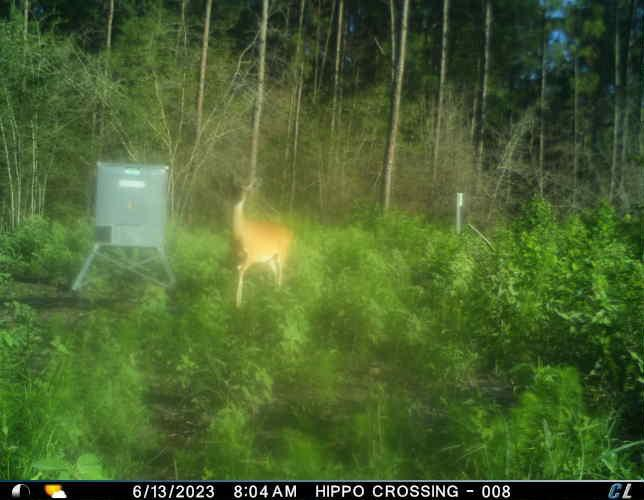Deer: (222, 165, 296, 311)
